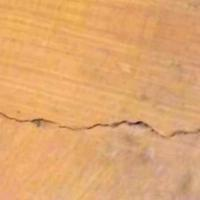crack: (1, 93, 199, 175)
